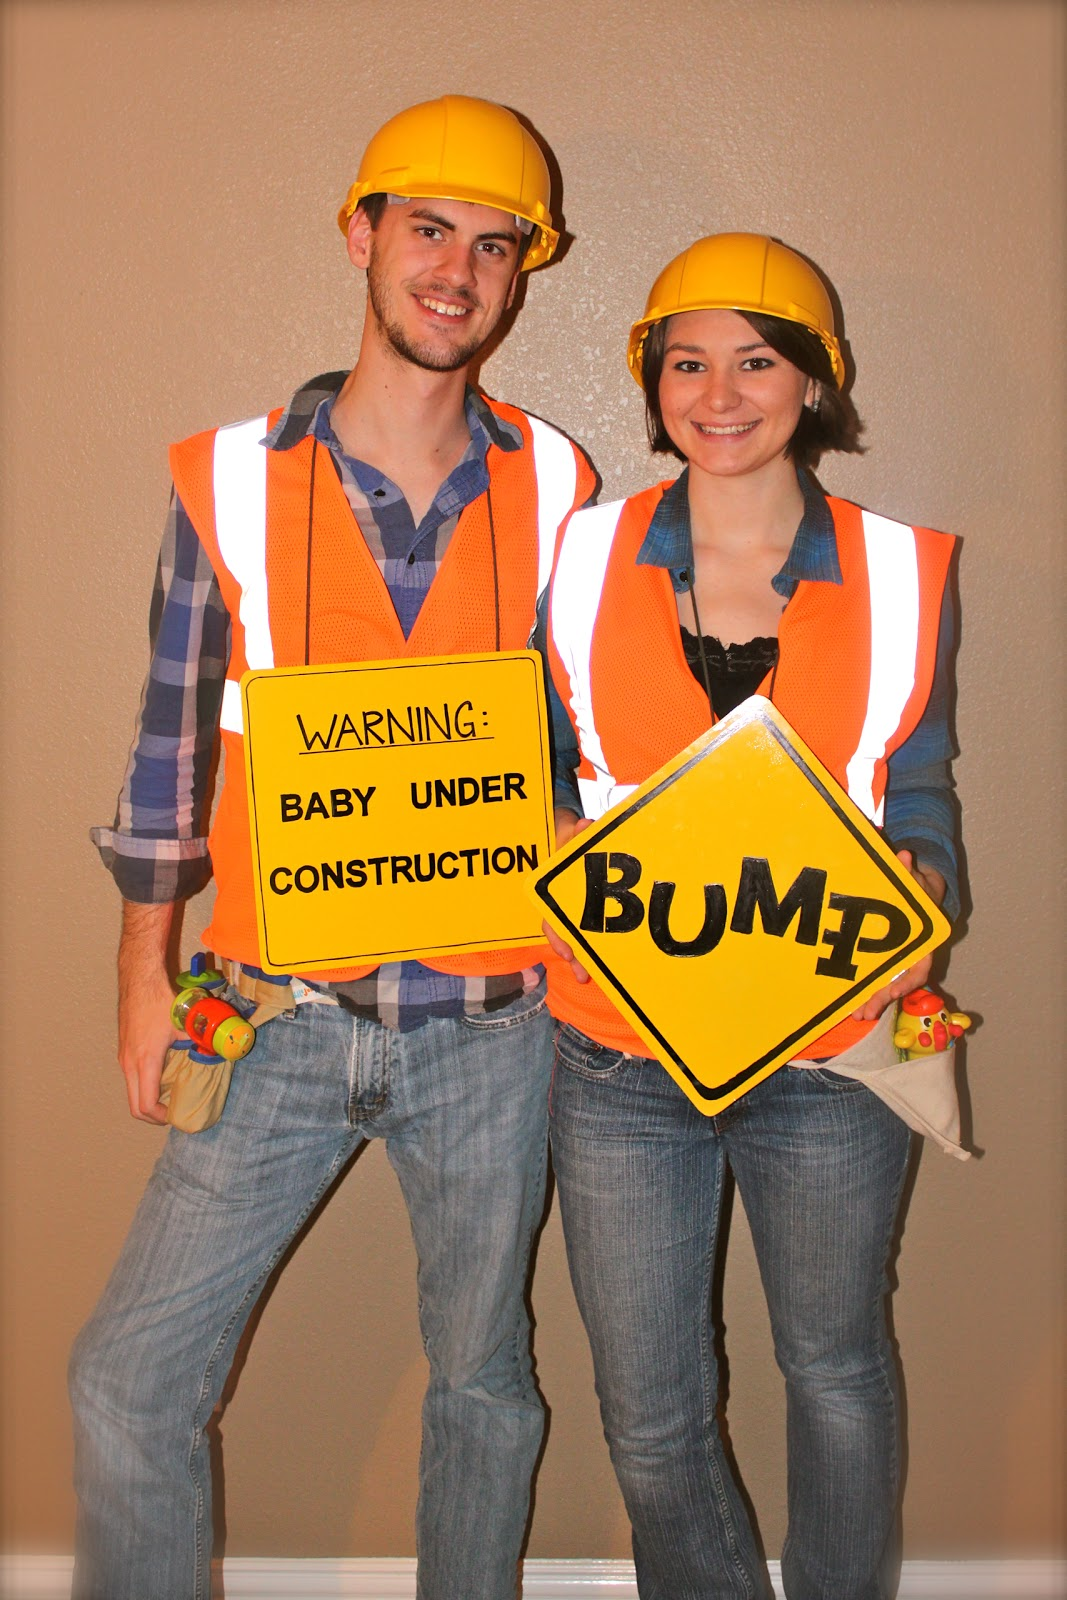Hard Hat: (335, 99, 568, 248), (622, 235, 865, 337)
High Viz: (210, 405, 554, 899), (560, 510, 896, 918)
